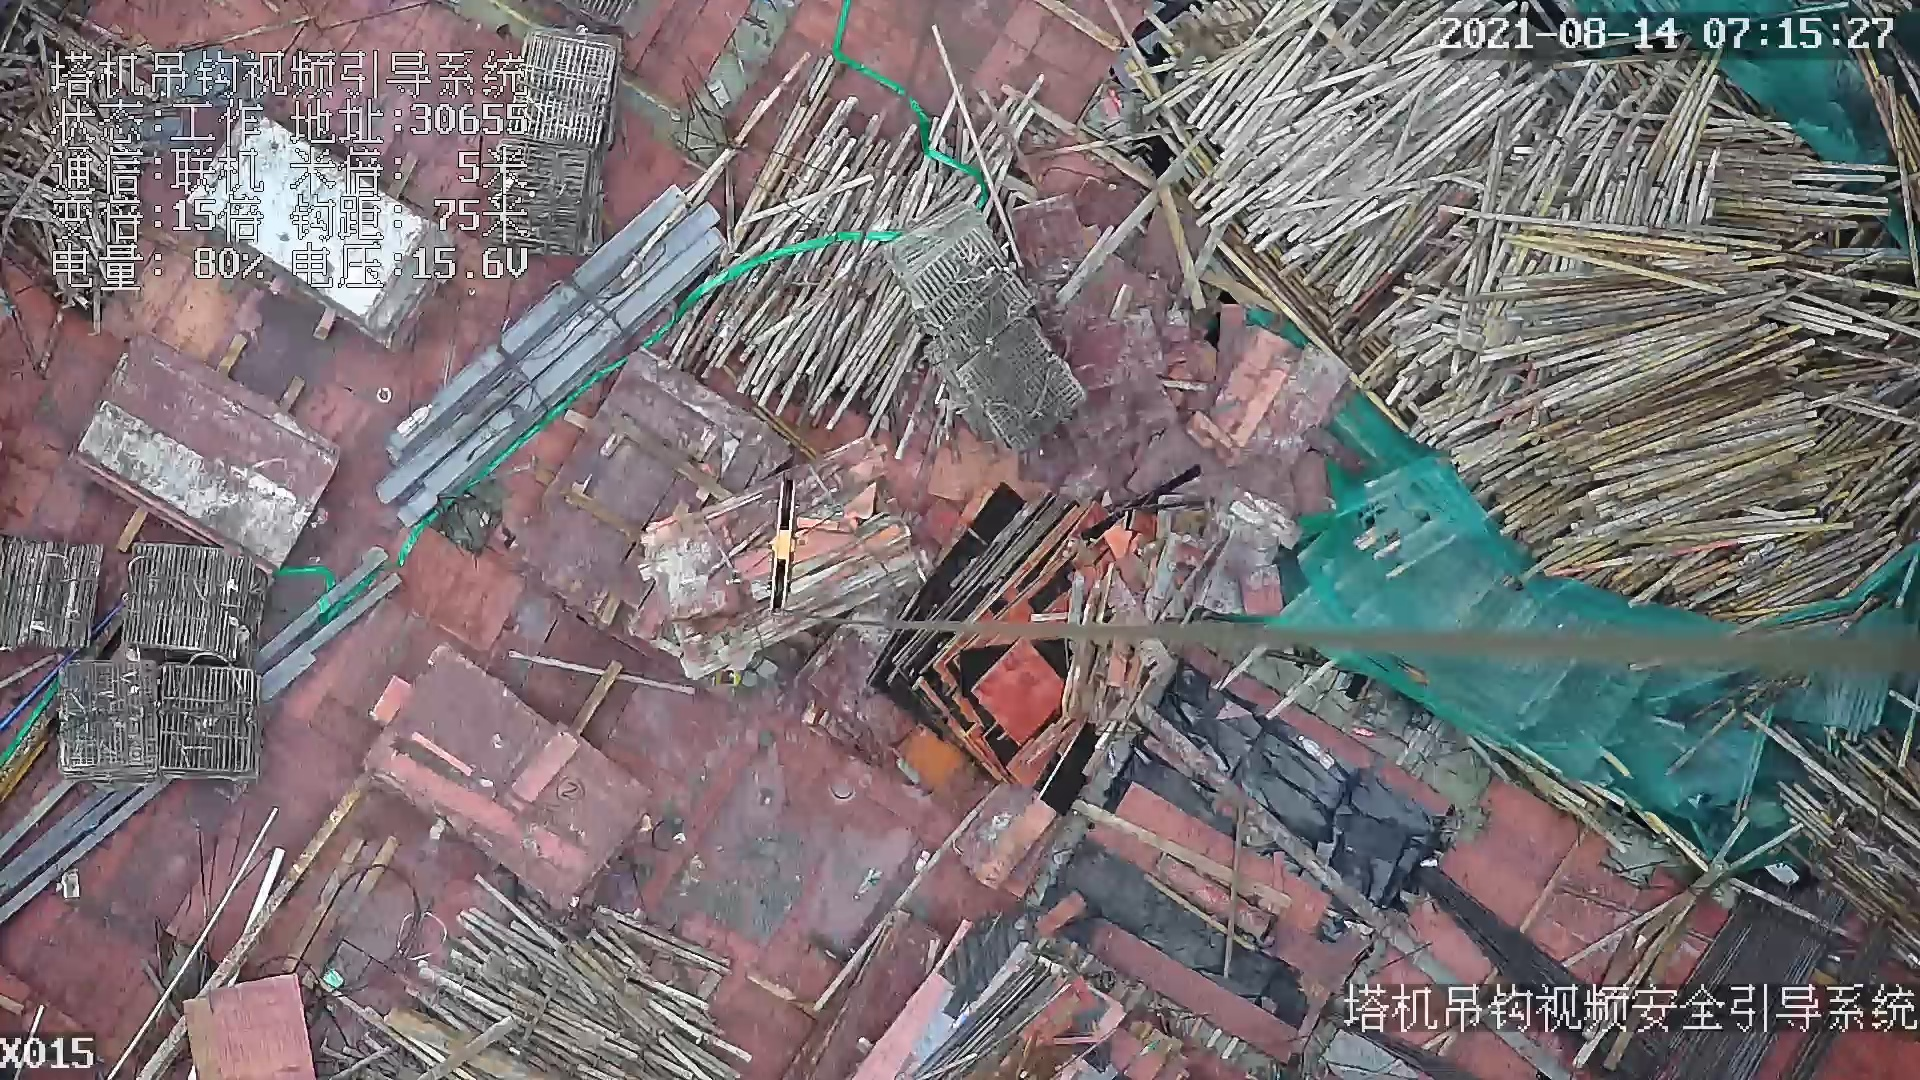hook: (756, 472, 804, 621)
